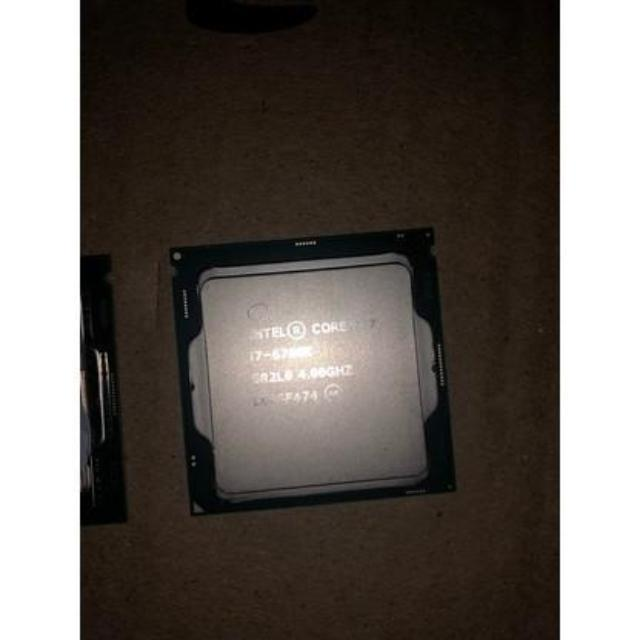CPU: (167, 241, 459, 507)
